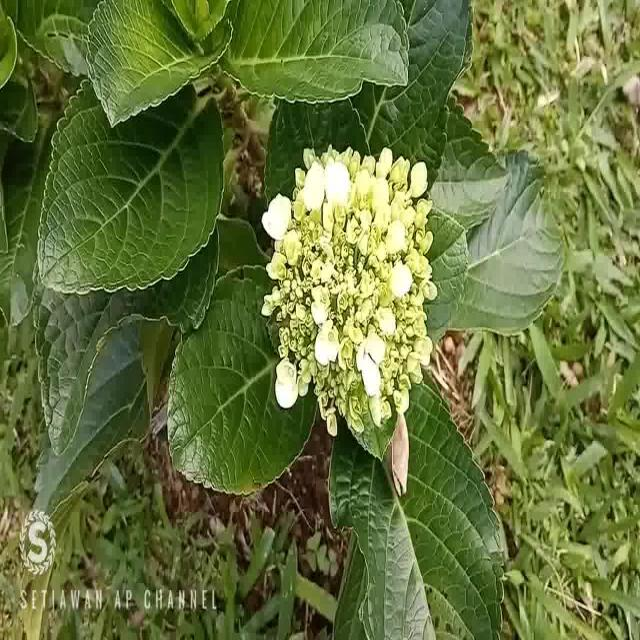Flower: (262, 149, 438, 415)
